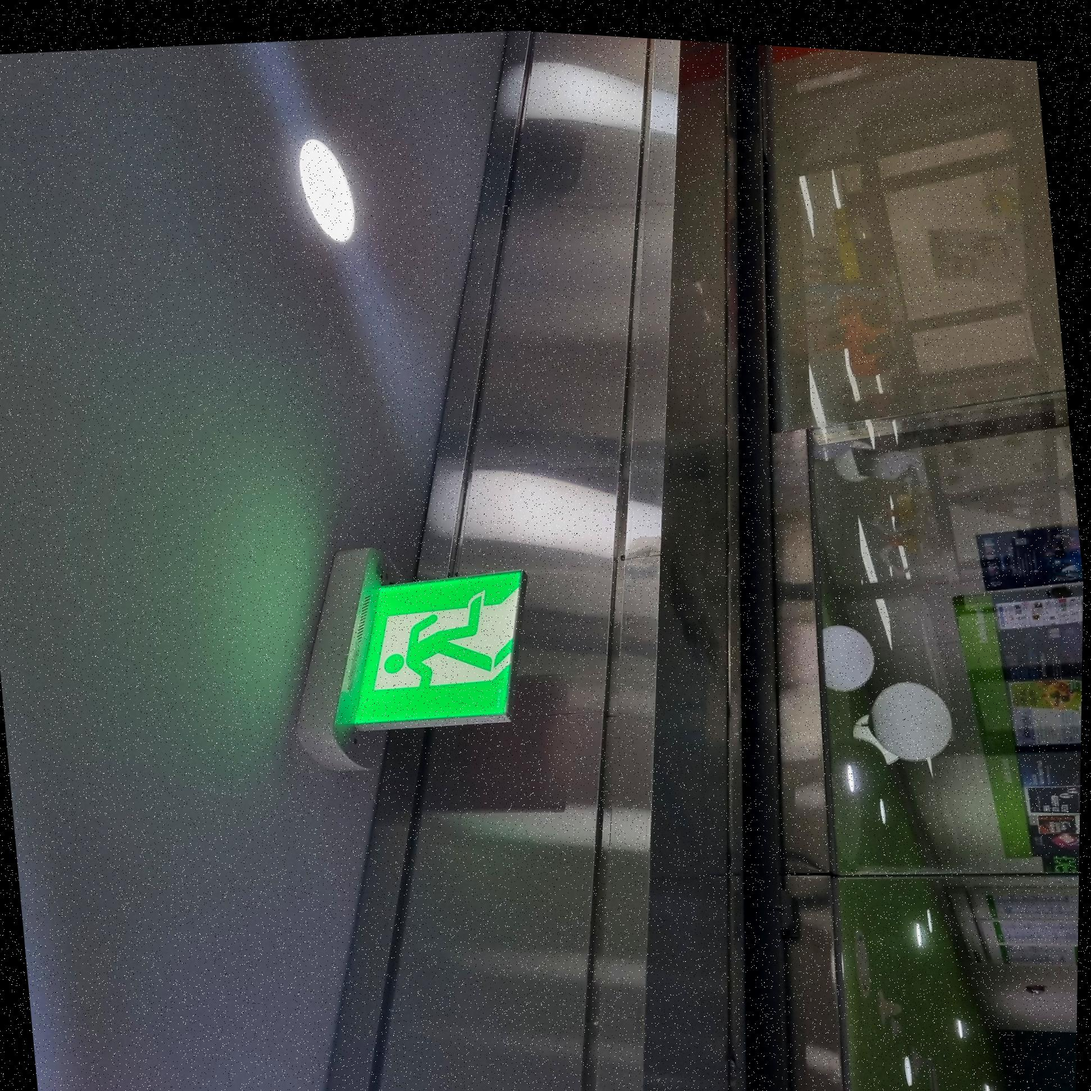emergency_exit: (333, 555, 527, 738)
